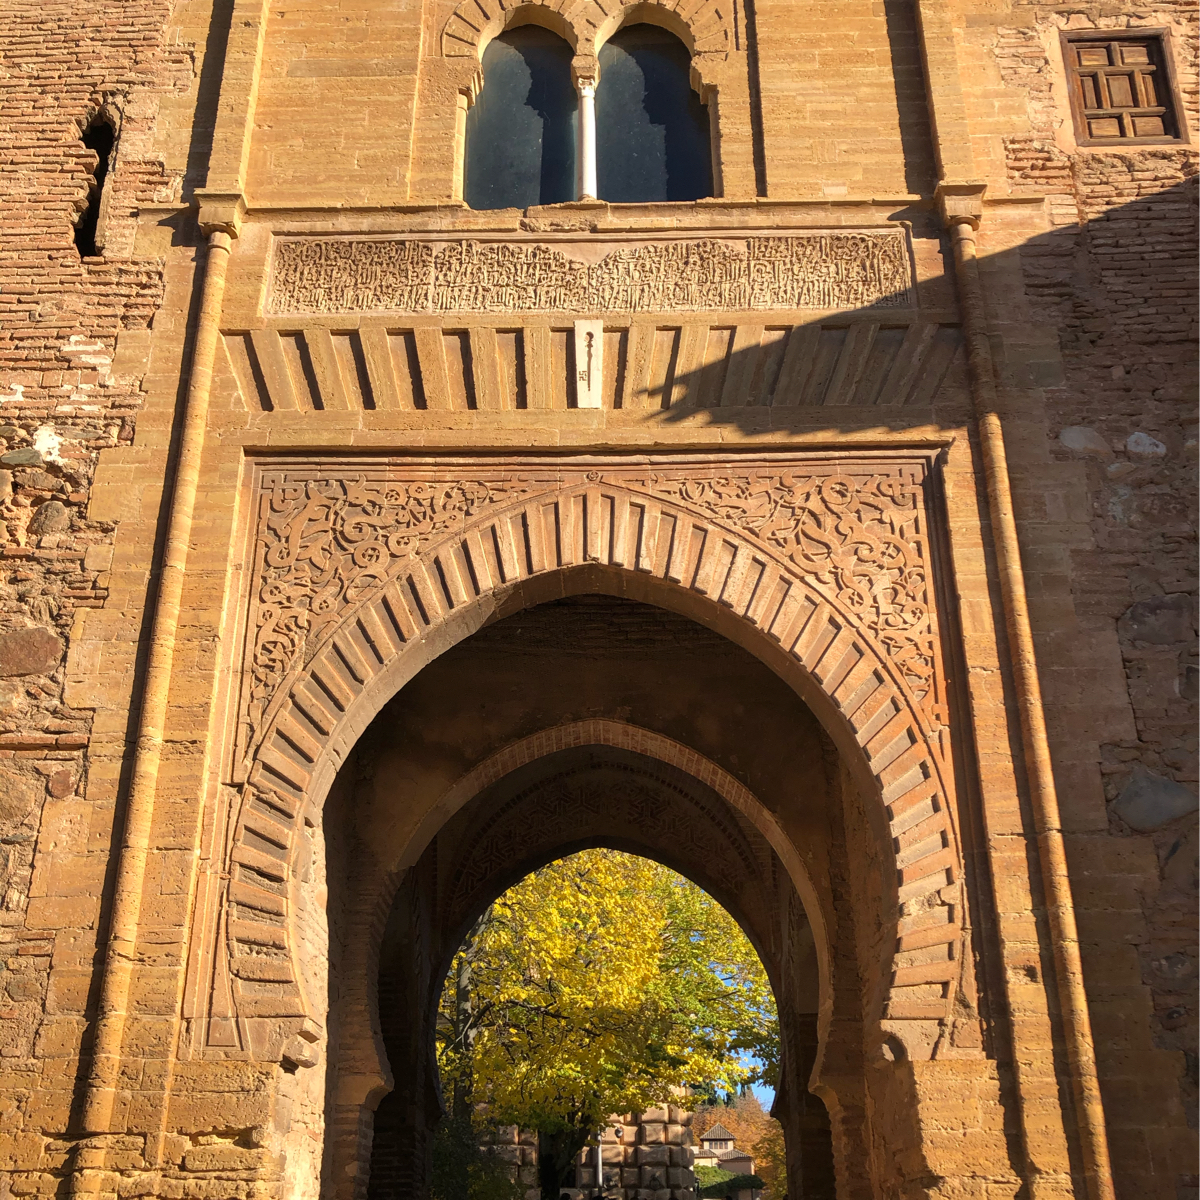arco-herradura: (238, 530, 948, 1092), (451, 1, 589, 105), (588, 1, 727, 103)
dintel-adovelado: (212, 305, 977, 431)
